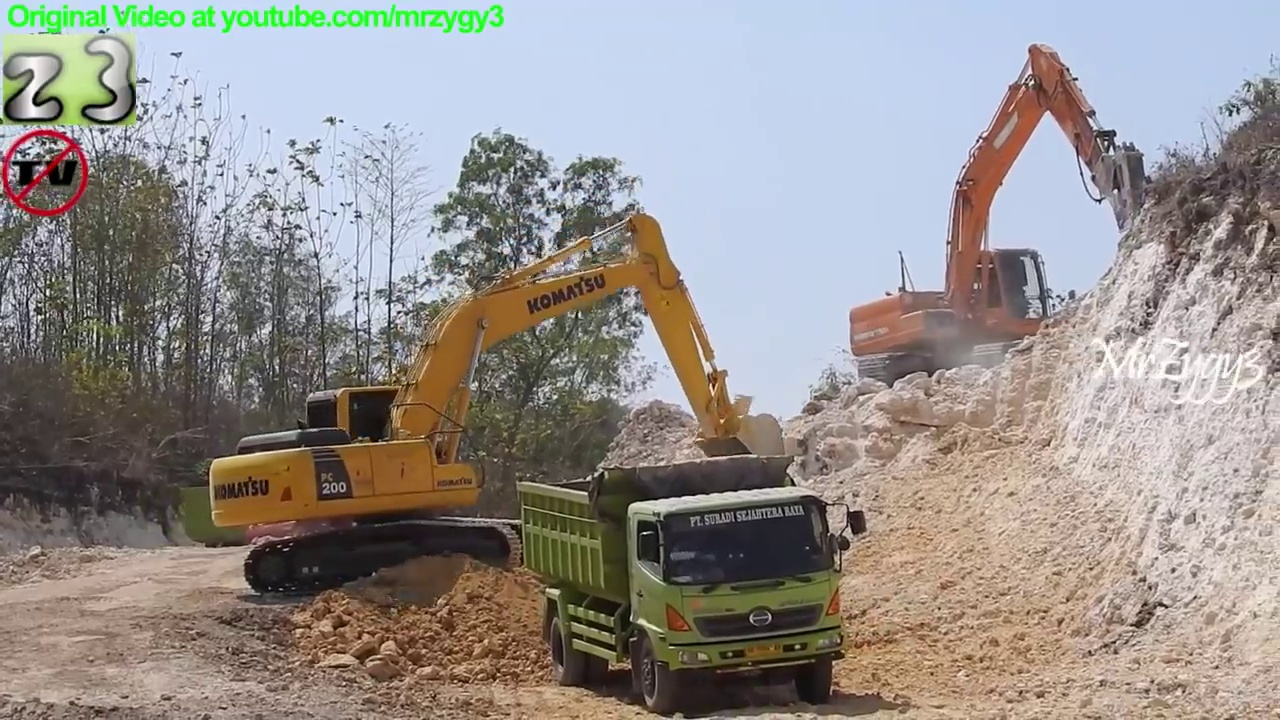excavator: (206, 210, 796, 605), (846, 41, 1165, 399)
truck: (513, 450, 877, 714)
